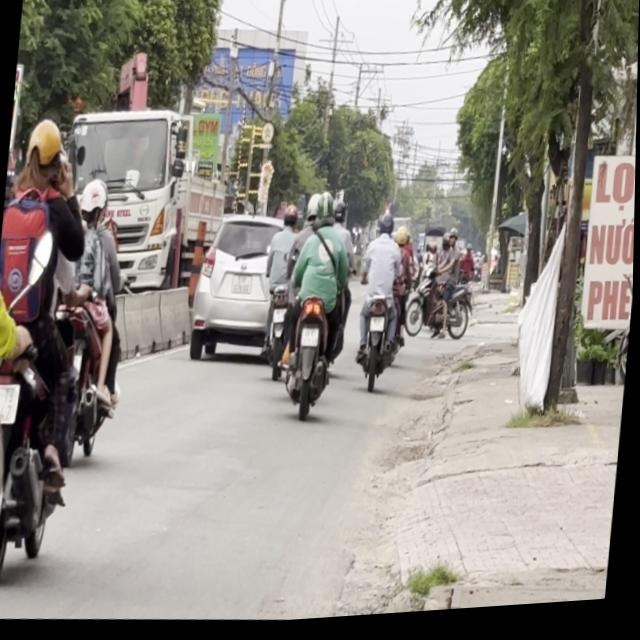helmet: (21, 113, 67, 193), (76, 175, 109, 227), (315, 193, 335, 230)
licenseplate: (0, 103, 105, 586), (49, 169, 139, 466), (274, 187, 359, 423)
nohelmet: (301, 330, 319, 350)
